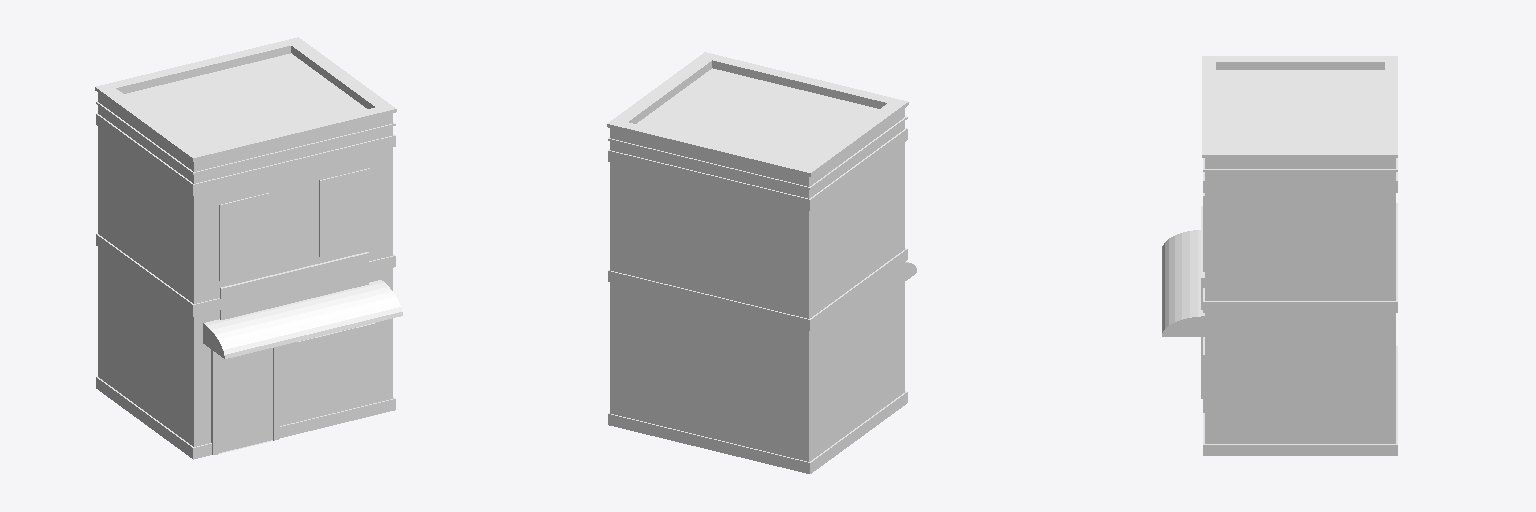
The model's file is Building_Bar.obj.
3 renders of one model, left to right at view 1: azimuth 30°, elevation 25°; view 2: azimuth 150°, elevation 25°; view 3: azimuth 270°, elevation 25°, orthographic.
Size of the model in its own units: 736 by 1041 by 741.